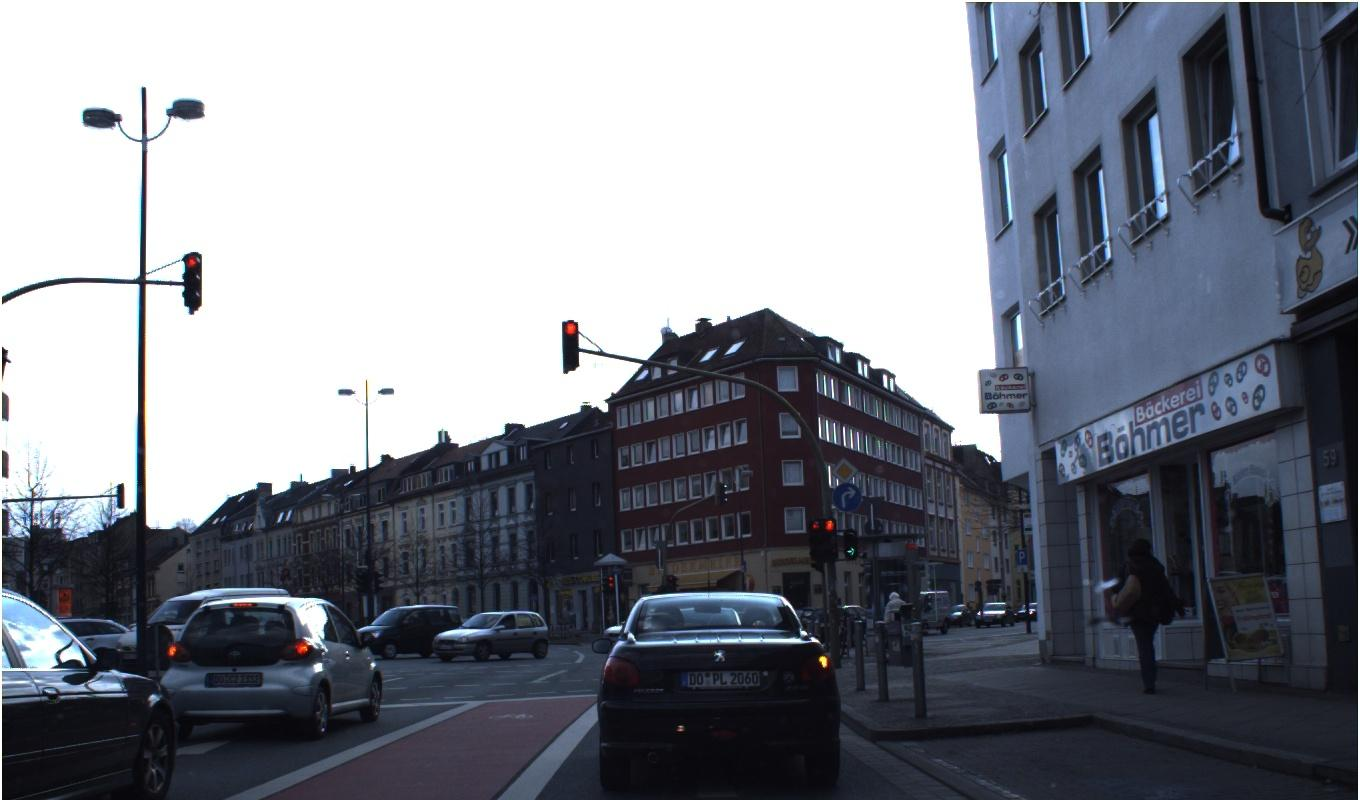priority road: (829, 456, 862, 512)
